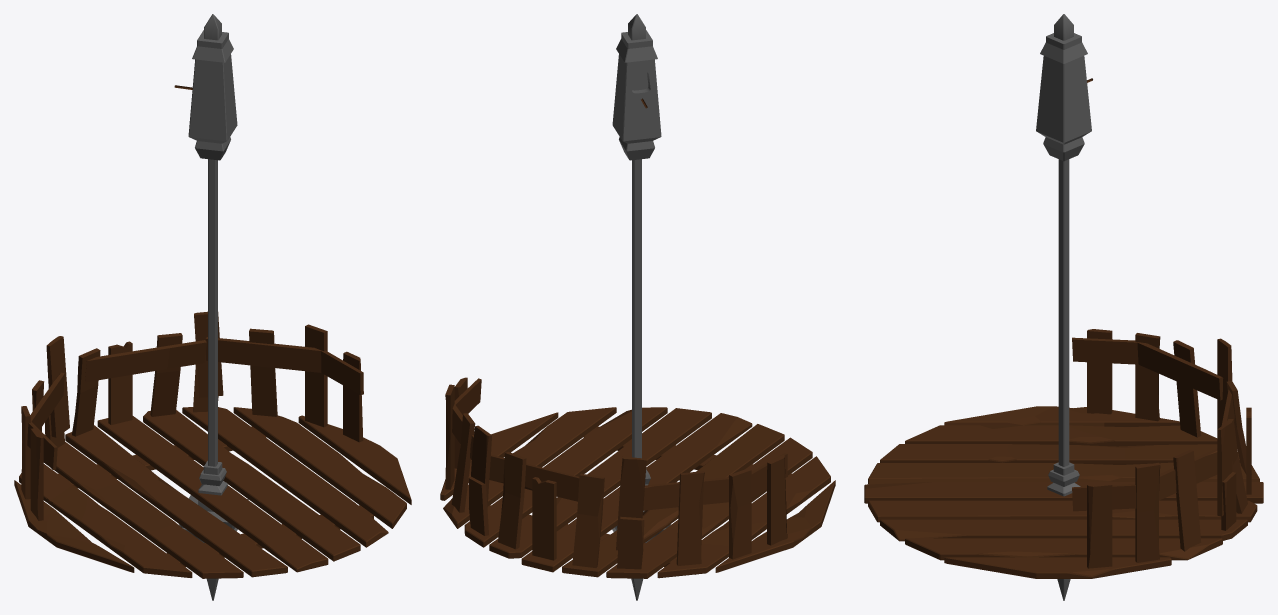
The model's file is Platform-M00C.fbx.
The picture shows the model from 3 angles, left to right: view 1: azimuth 30°, elevation 25°; view 2: azimuth 150°, elevation 25°; view 3: azimuth 270°, elevation 25°; orthographic projection.
Parts seen in each view (by area): view 1: Cube.002; view 2: Cube.002; view 3: Cube.002.
Part boxes in pixels (x1=…): Cube.002: x1=14, y1=14, x2=411, y2=600; Cube.002: x1=440, y1=14, x2=835, y2=600; Cube.002: x1=864, y1=14, x2=1263, y2=600.
Bounding box in the file's own units: 241 × 395 × 244.
